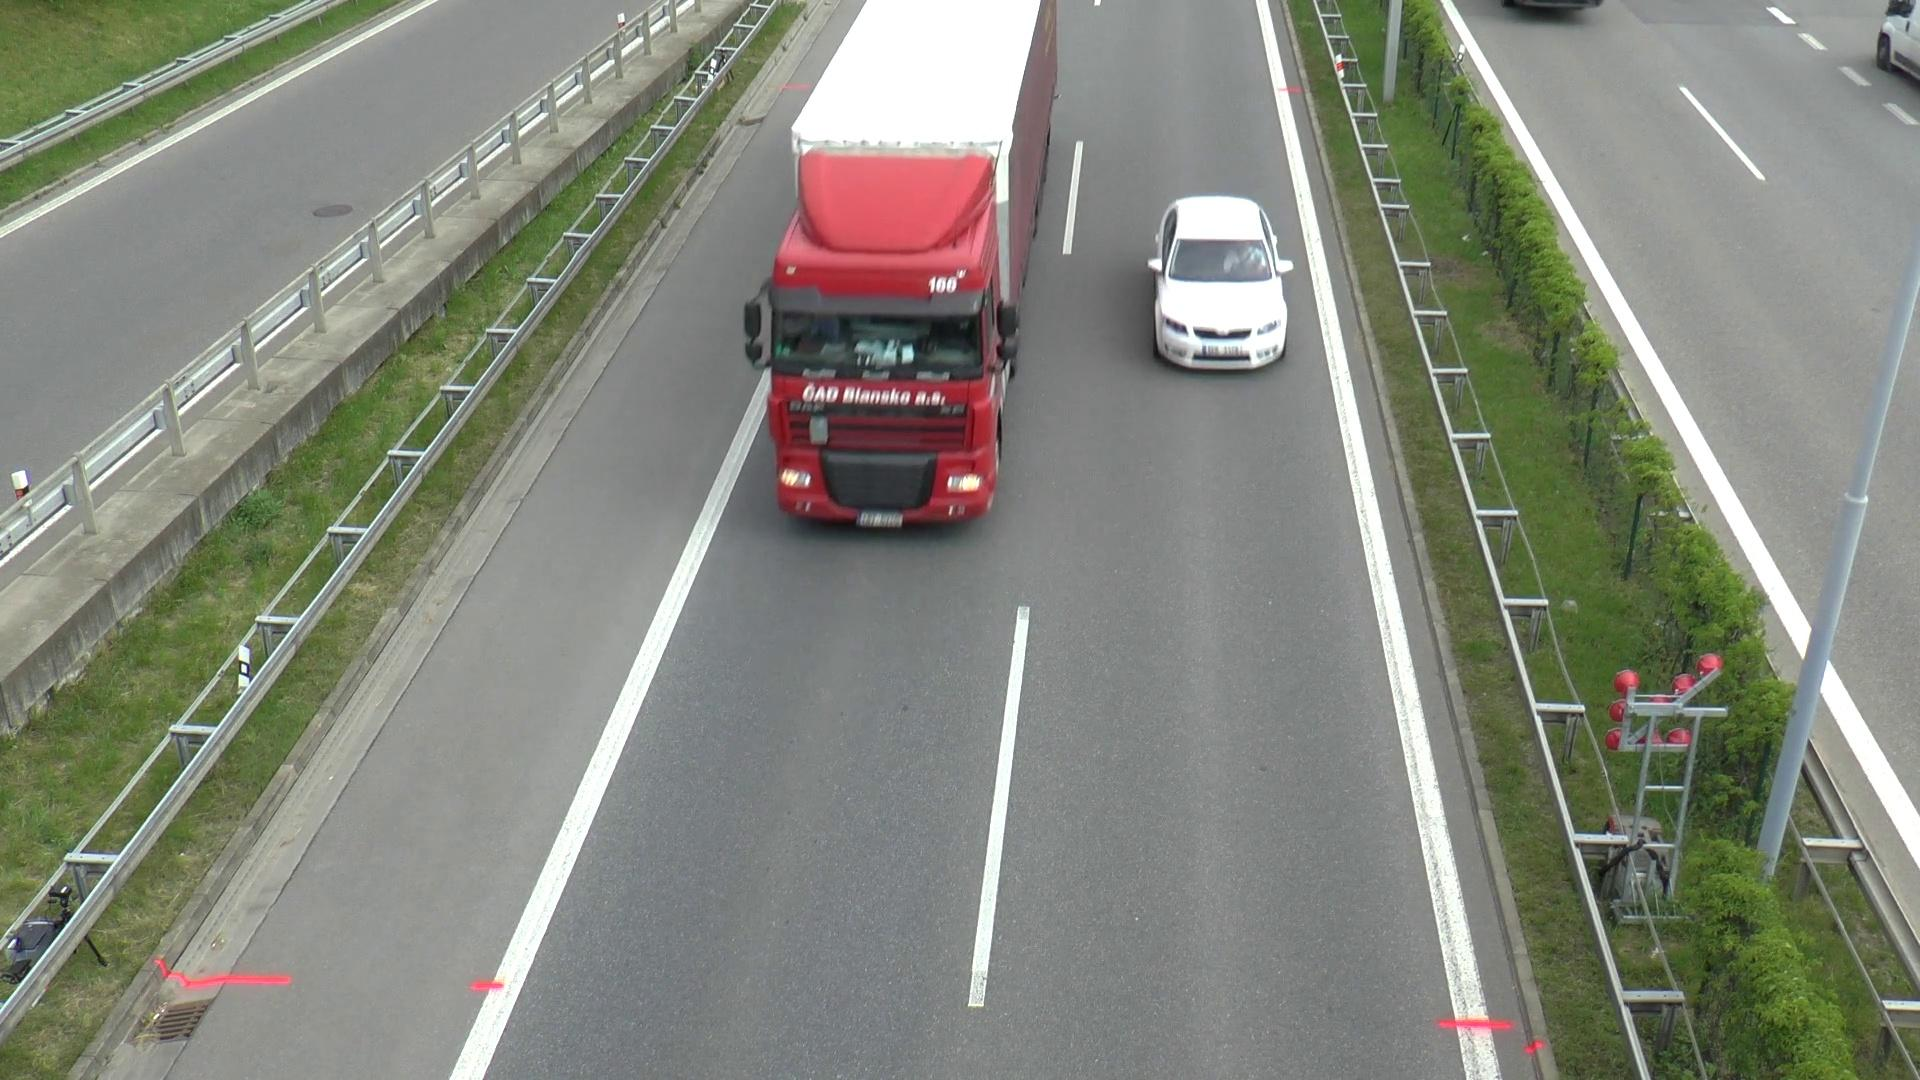Car: (1135, 186, 1307, 388)
Truck: (740, 7, 1077, 587)
